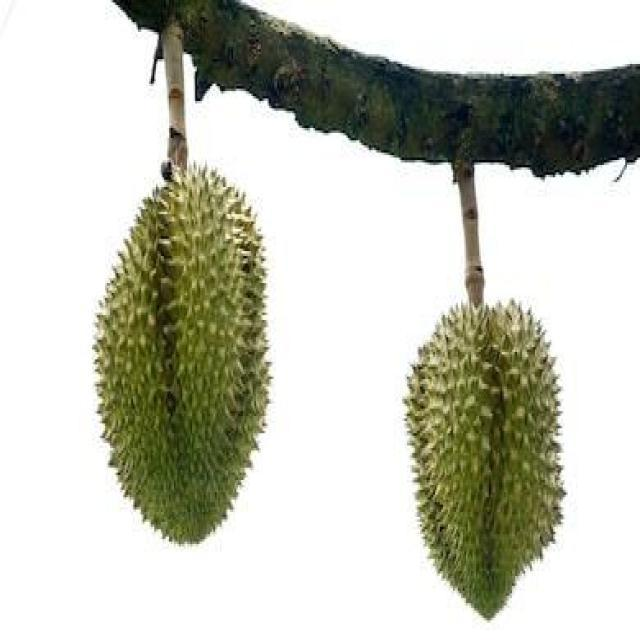immature: (92, 157, 276, 551), (398, 295, 567, 619)
